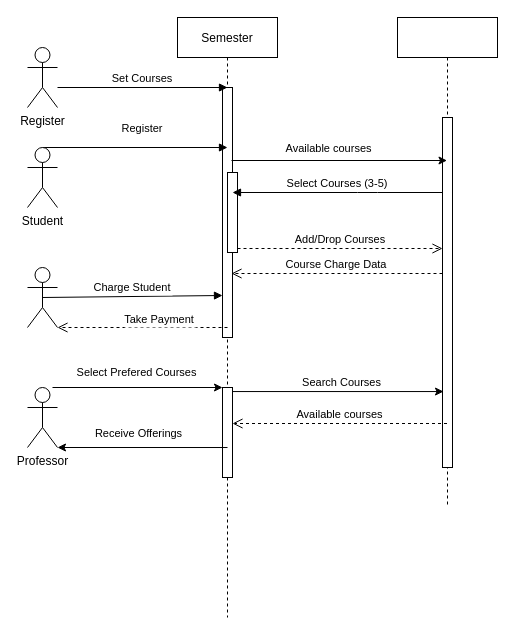
The diagram is 515 pixels wide and 635 high, and some of its shapes have lost their labels. The shapes that lost their labels are listed below. From the top down, each one's box as (x1, y1, x2, y2) in pixels, then its label:
(396, 16, 498, 508): Courses
(26, 266, 58, 328): System
